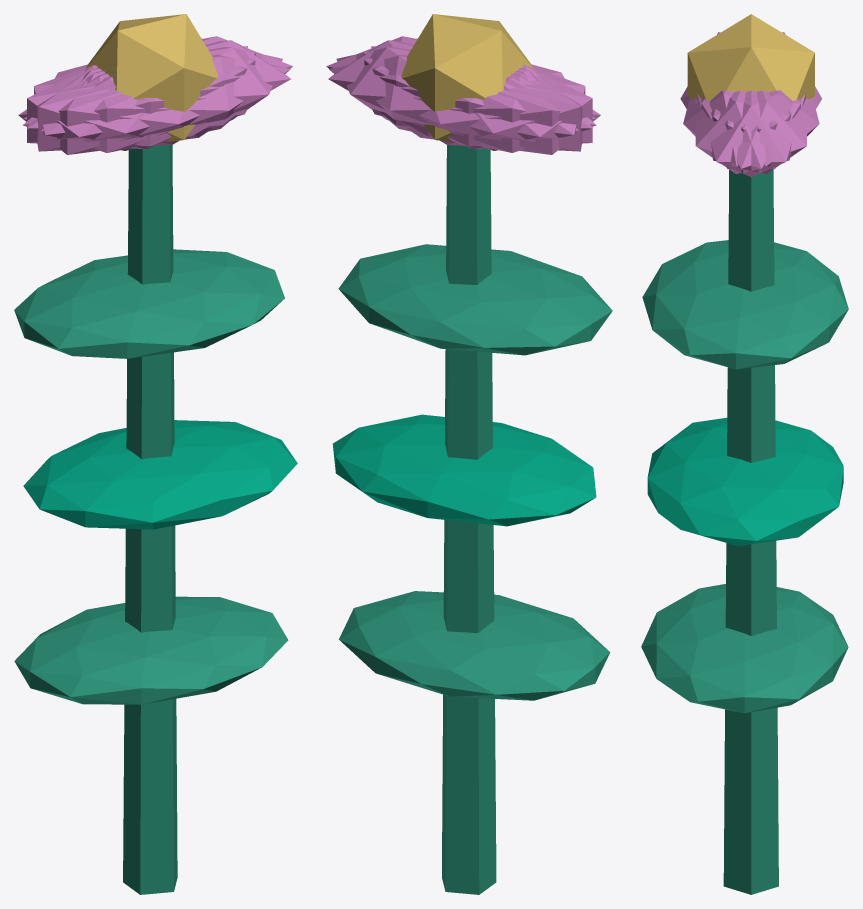
Rendered from averrhoa-bilimbi.glb.
3 renders of one model, left to right at view 1: azimuth 30°, elevation 25°; view 2: azimuth 150°, elevation 25°; view 3: azimuth 270°, elevation 25°, orthographic.
Visible parts, largest first — view 1: stem, leaf2, leaf0, leaf1, center, petal1, petal6, petal2, petal5, petal7, petal0, petal4 (+2 smaller); view 2: stem, leaf2, leaf0, leaf1, center, petal8, petal3, petal7, petal4, petal2, petal0, petal5 (+2 smaller); view 3: stem, leaf2, leaf1, leaf0, center, petal0, petal4, petal5, petal1, petal8.
Part boxes in pixels (x1=…): stem: x1=123, y1=145, x2=177, y2=894; leaf2: x1=14, y1=249, x2=284, y2=358; leaf0: x1=14, y1=596, x2=288, y2=704; leaf1: x1=23, y1=420, x2=297, y2=529; center: x1=86, y1=14, x2=217, y2=142; petal1: x1=23, y1=54, x2=290, y2=152; petal6: x1=18, y1=66, x2=212, y2=154; petal2: x1=37, y1=46, x2=247, y2=151; petal5: x1=41, y1=47, x2=282, y2=146; petal7: x1=27, y1=51, x2=255, y2=149; petal0: x1=85, y1=40, x2=290, y2=136; petal4: x1=24, y1=36, x2=292, y2=128; stem: x1=442, y1=145, x2=496, y2=894; leaf2: x1=338, y1=244, x2=612, y2=355; leaf0: x1=339, y1=591, x2=610, y2=700; leaf1: x1=332, y1=414, x2=596, y2=526; center: x1=401, y1=14, x2=533, y2=142; petal8: x1=329, y1=54, x2=596, y2=152; petal3: x1=407, y1=66, x2=600, y2=154; petal7: x1=371, y1=46, x2=582, y2=151; petal4: x1=336, y1=47, x2=578, y2=146; petal2: x1=363, y1=51, x2=592, y2=149; petal0: x1=328, y1=40, x2=533, y2=136; petal5: x1=326, y1=36, x2=595, y2=128; stem: x1=723, y1=169, x2=778, y2=894; leaf2: x1=642, y1=240, x2=848, y2=369; leaf1: x1=647, y1=417, x2=843, y2=545; leaf0: x1=641, y1=584, x2=848, y2=713; center: x1=687, y1=14, x2=814, y2=100; petal0: x1=697, y1=90, x2=805, y2=177; petal4: x1=701, y1=90, x2=807, y2=173; petal5: x1=695, y1=90, x2=800, y2=173; petal1: x1=683, y1=90, x2=791, y2=166; petal8: x1=711, y1=90, x2=819, y2=166.
Bounding box in the file's own units: 0.1452 × 0.4532 × 0.1001.
